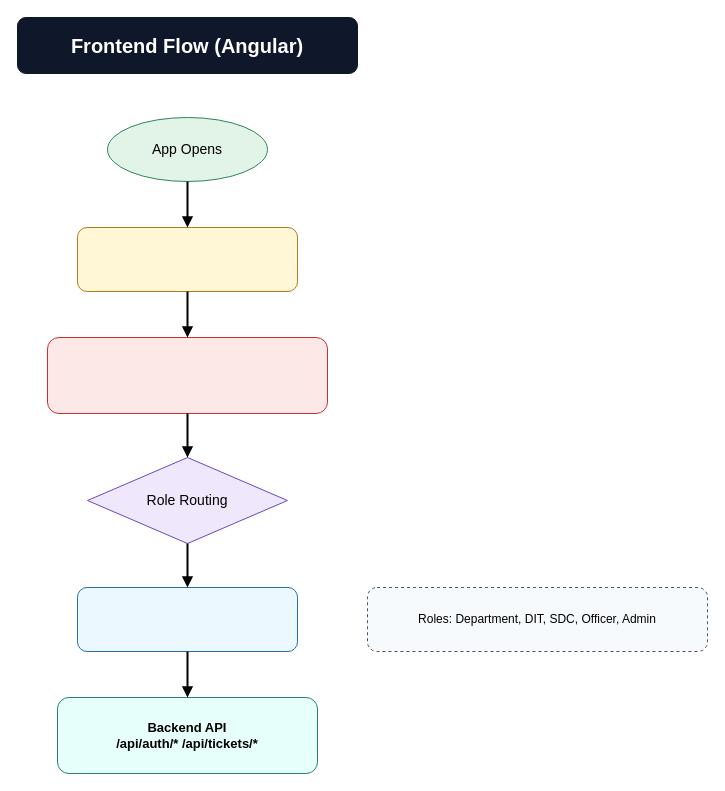
Image size: 725x791. Some labels were removed from this diagram. Each missing label, with the box of its shape:
Auth Layer service + interceptor + guard: (46, 336, 328, 414)
Feature Areas: (76, 586, 298, 652)
Login / Register: (76, 226, 298, 292)
